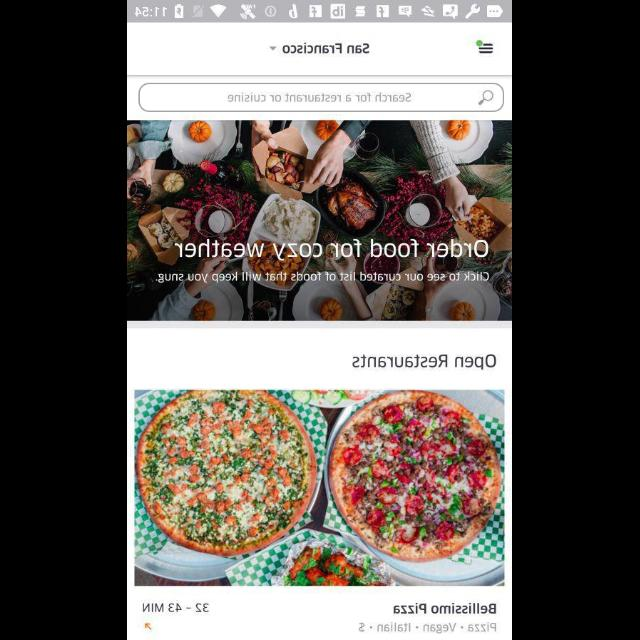icon: (478, 90, 494, 106), (476, 40, 494, 54)
image: (128, 120, 512, 322), (135, 390, 505, 586)
input: (138, 83, 504, 113)
text: (175, 239, 489, 261), (156, 271, 488, 283), (353, 354, 497, 370), (228, 92, 412, 102), (359, 622, 497, 634), (393, 602, 497, 614), (282, 43, 370, 55), (143, 604, 210, 612)
toolbar: (128, 24, 512, 76)
uppertaskbar: (128, 1, 512, 23)
